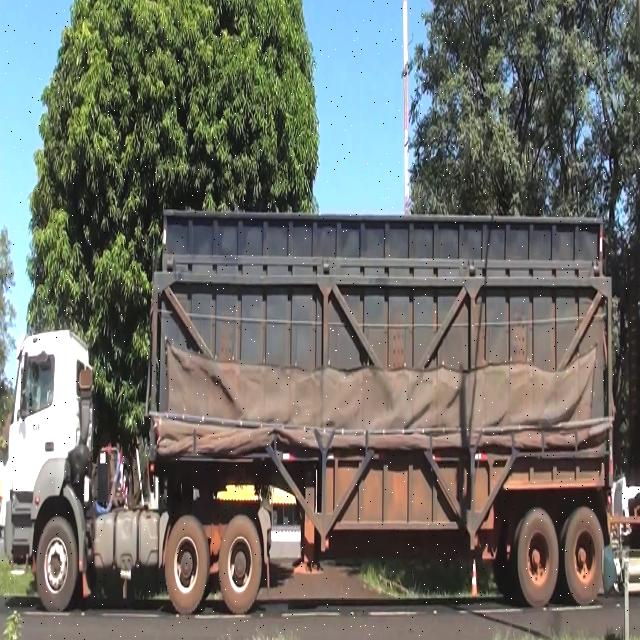-axle: (514, 503, 560, 605), (219, 513, 263, 618), (164, 513, 208, 617), (35, 514, 79, 614), (564, 506, 605, 605)
